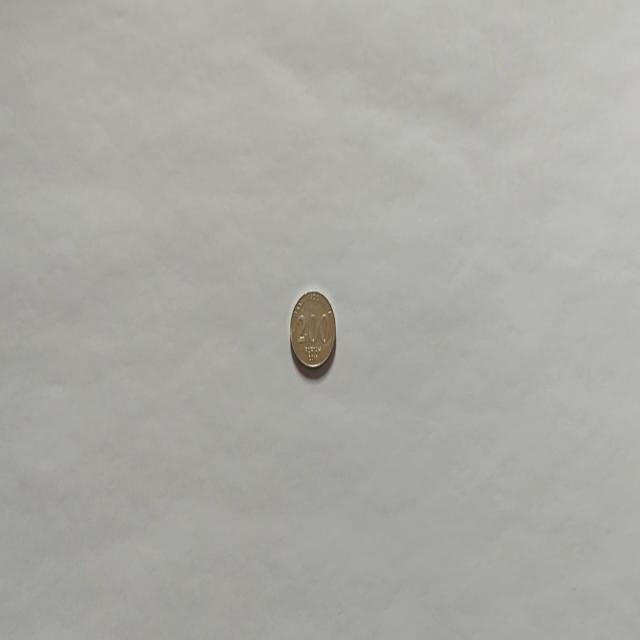dua ratus rupiah: (288, 289, 336, 371)
